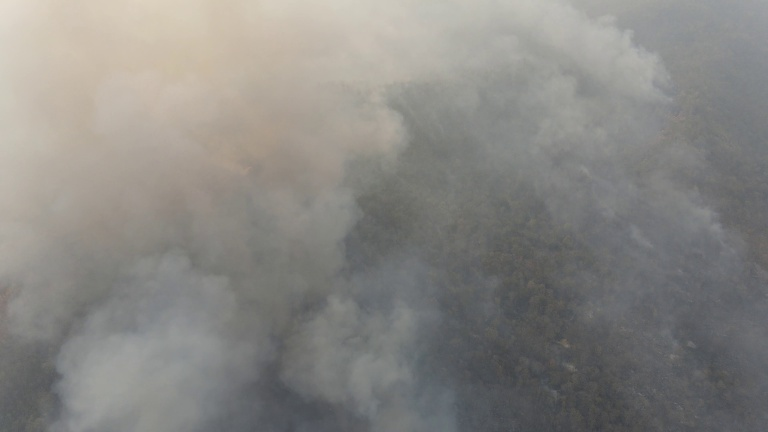smoke: (6, 1, 520, 313), (44, 255, 282, 432), (285, 269, 469, 420)
